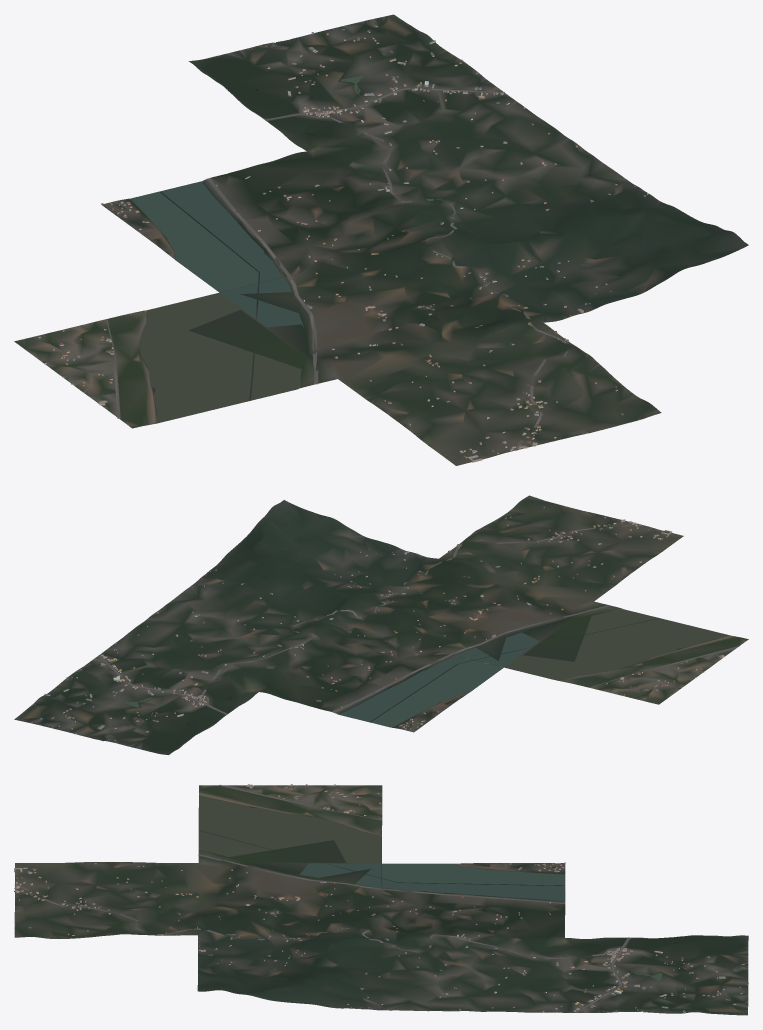
3 views of the same model, one above another, from view 1: azimuth 30°, elevation 25°; view 2: azimuth 150°, elevation 25°; view 3: azimuth 270°, elevation 25° (orthographic). The views are drawn at different scales.
Visible parts, largest first — view 1: ground, water, buildings, roads; view 2: ground, water, buildings, roads; view 3: ground, water, buildings, roads.
Boxes of the visible parts, x1,y1,x2,y2 form: ground: [14, 14, 748, 465]; water: [131, 75, 592, 423]; buildings: [38, 25, 648, 462]; roads: [106, 88, 568, 450]; ground: [14, 495, 748, 754]; water: [123, 567, 730, 727]; buildings: [40, 506, 724, 740]; roads: [98, 523, 739, 714]; ground: [14, 785, 748, 1015]; water: [198, 795, 677, 981]; buildings: [14, 784, 748, 1013]; roads: [14, 785, 630, 1012].
Bounding box in the file's own units: 4221 × 241 × 5616.
